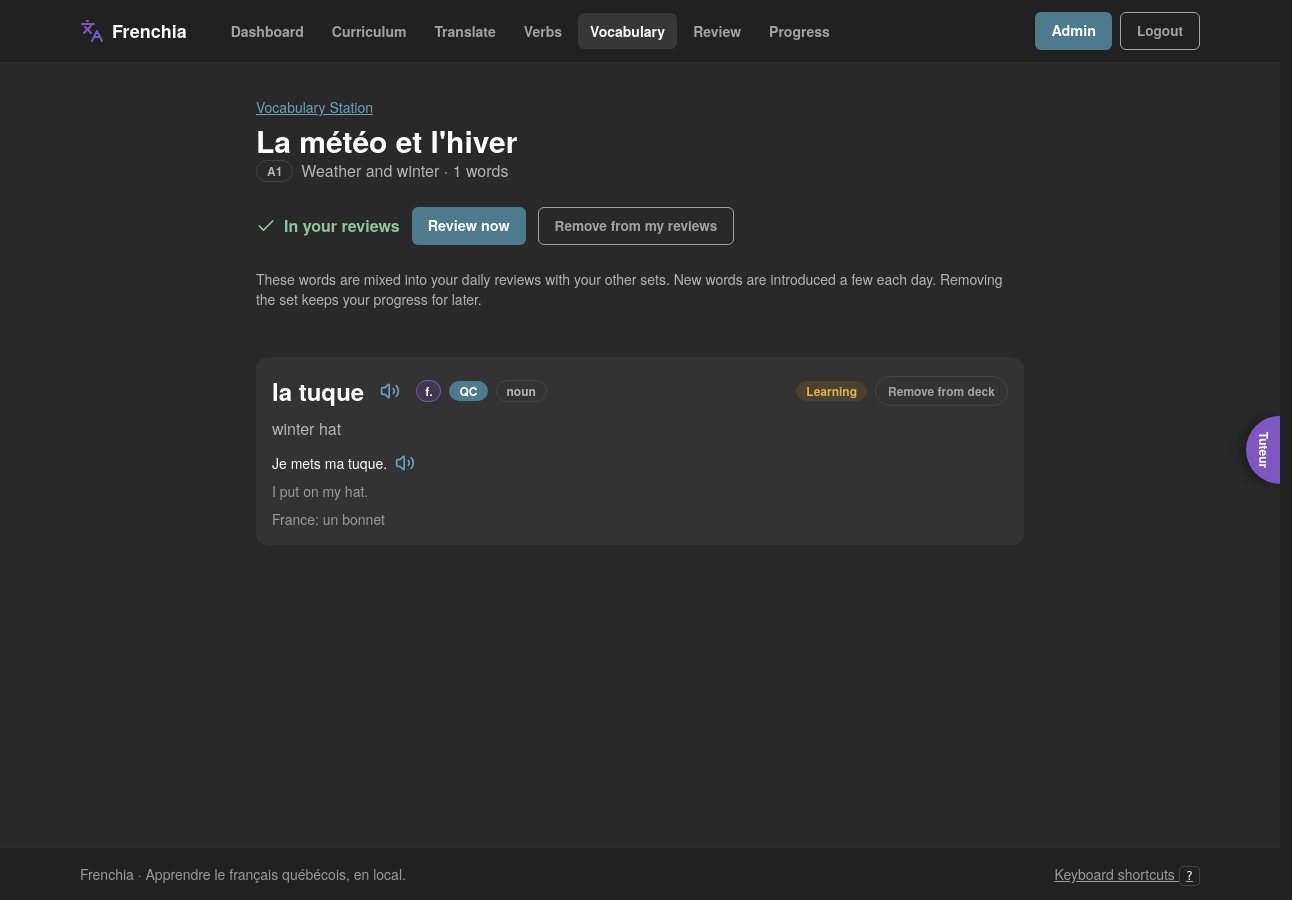
Scenario: Vocabulary Station › removes a set from the reviews
Click the button "Remove from my reviews" at (636,226), box [538, 207, 734, 245]
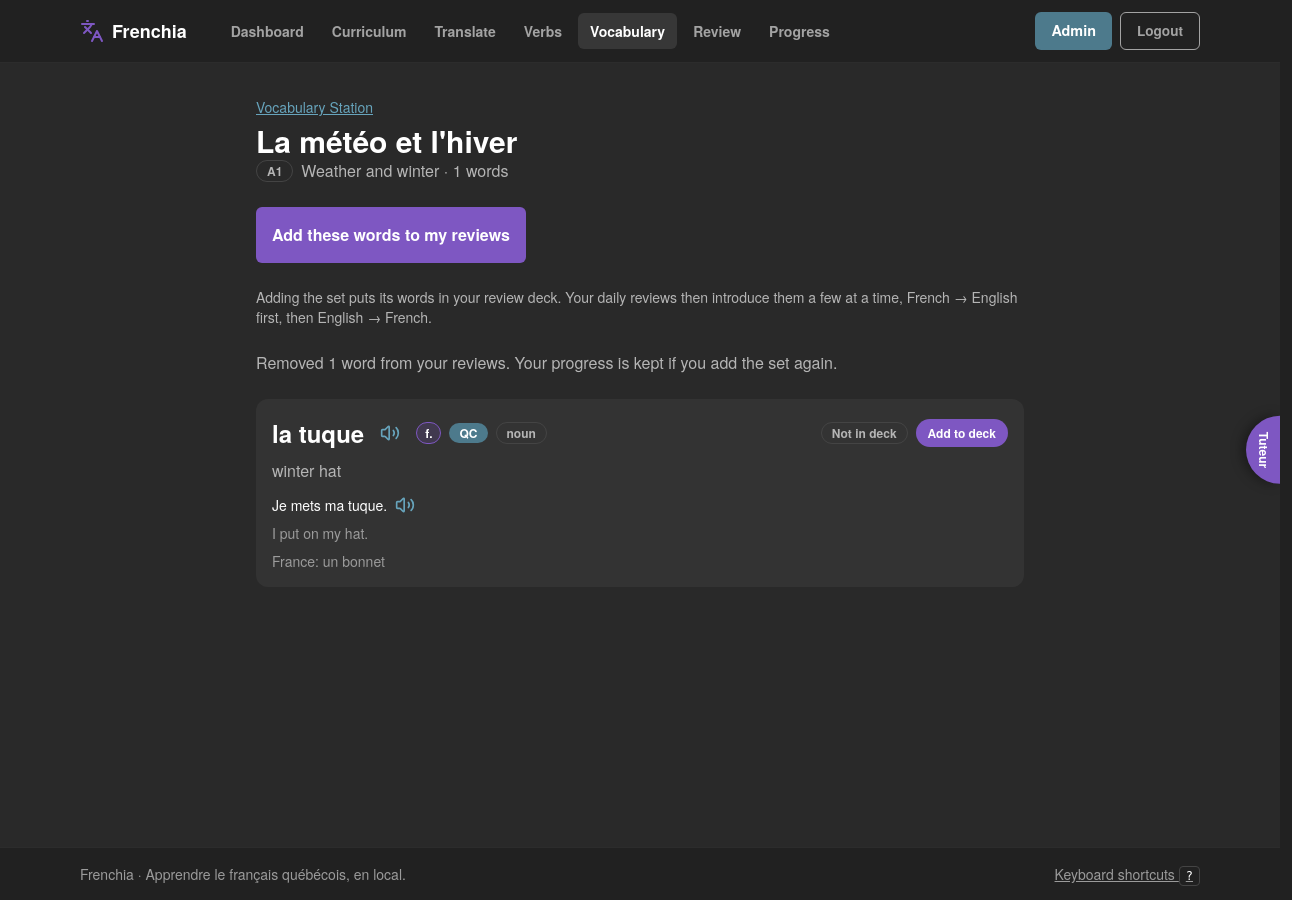
Result: the text "Removed 1 word from your reviews" is shown at [256, 351, 837, 374]
Result: the button "Add these words to my reviews" is shown at [256, 207, 526, 263]
Result: the link "Review now" is gone
